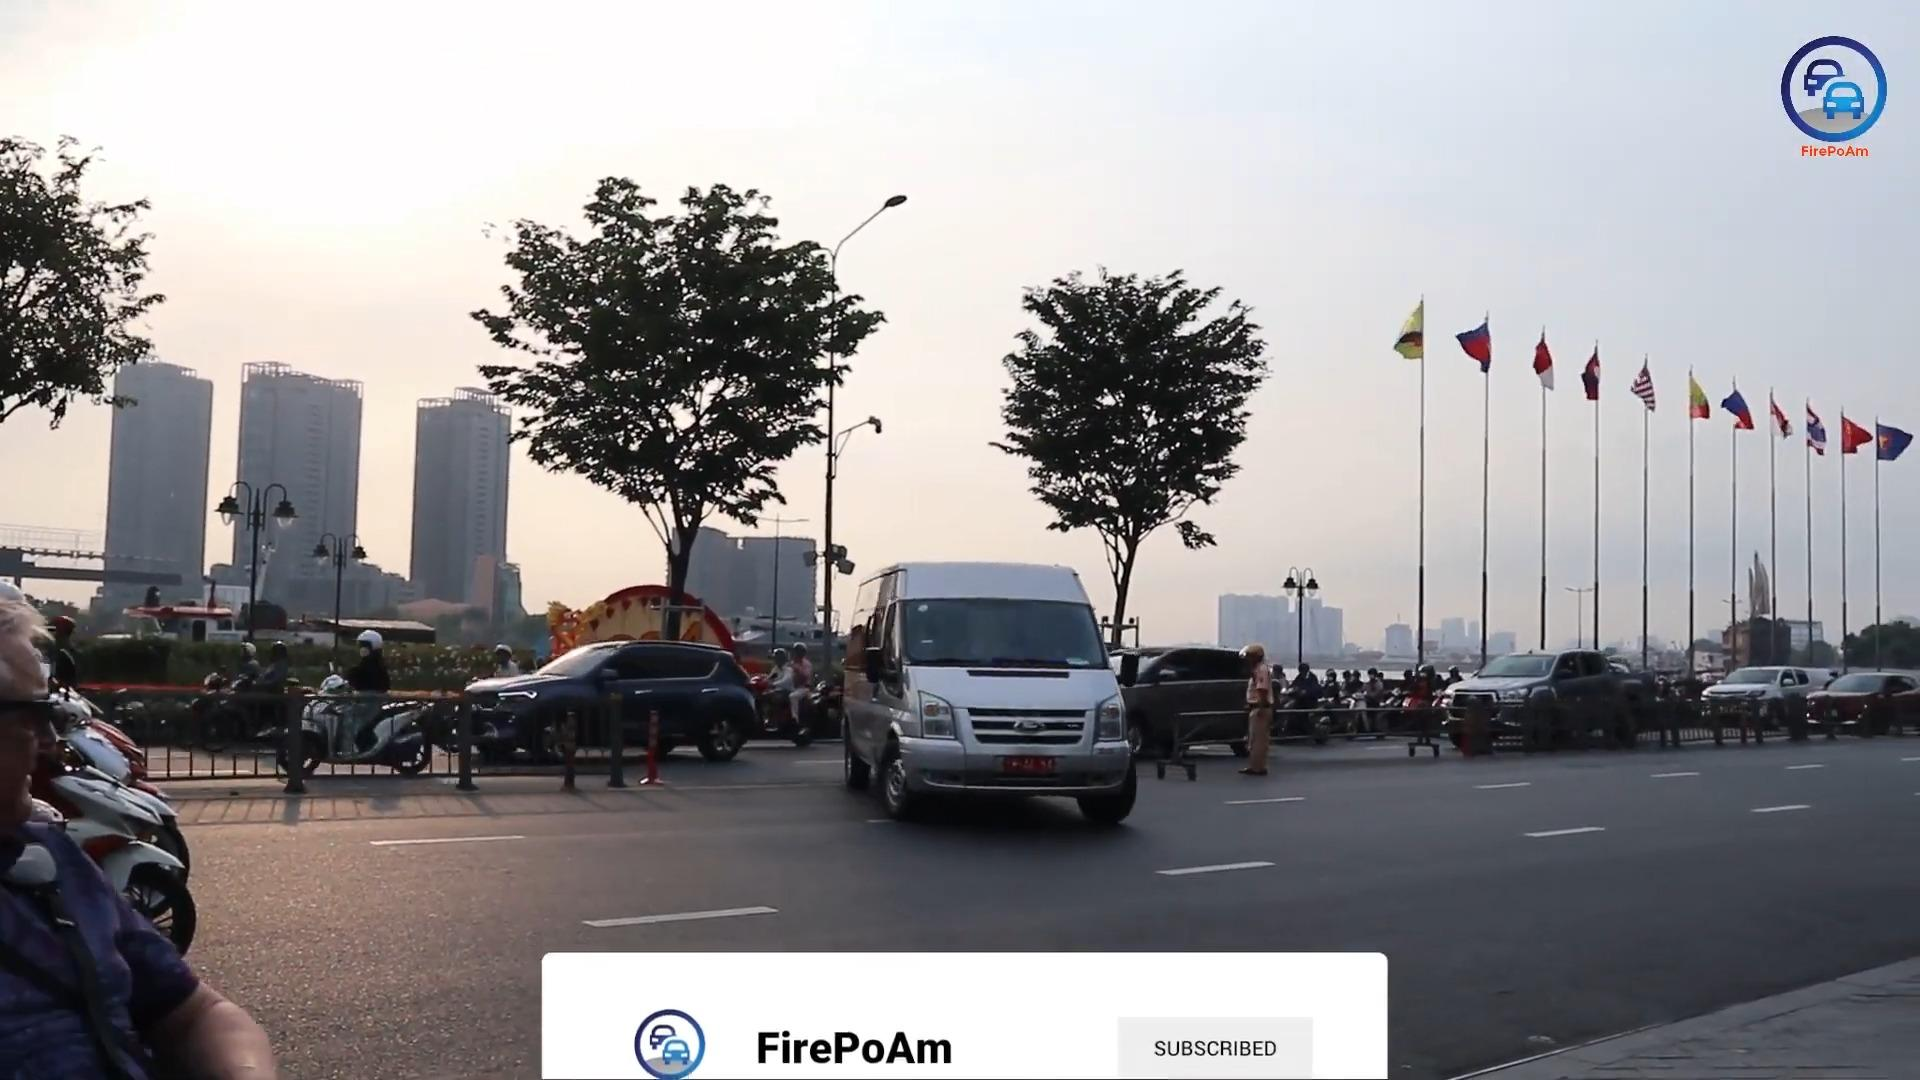bien_so: (1001, 753, 1057, 778)
